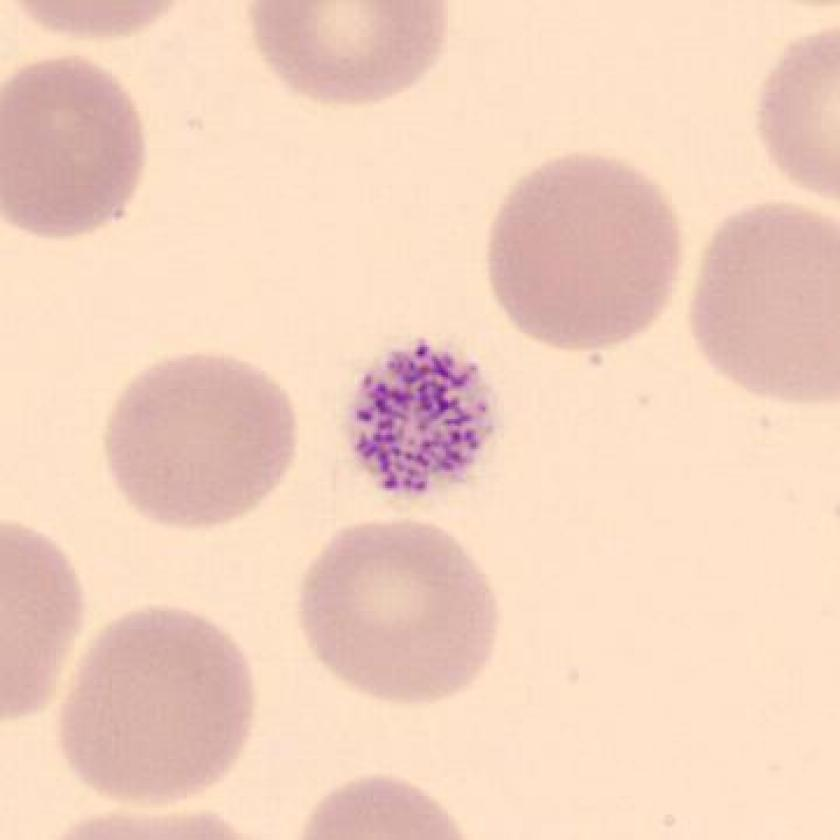platelets: (325, 332, 512, 519)
